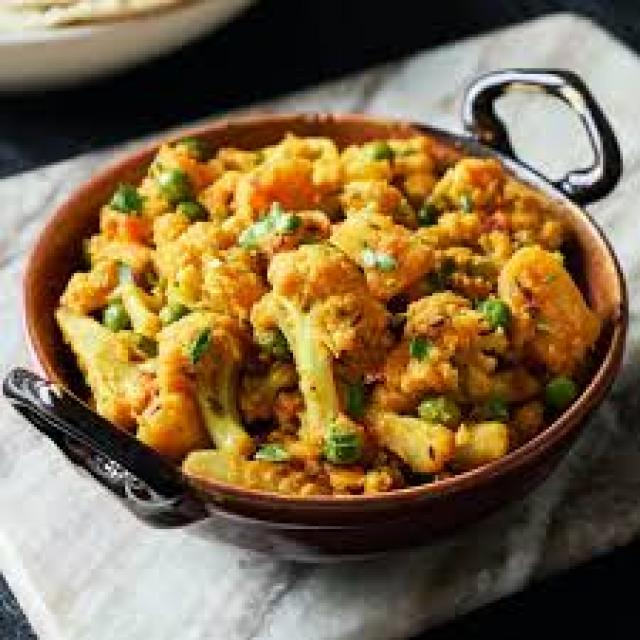Aloo Gobi: (54, 157, 610, 477)
